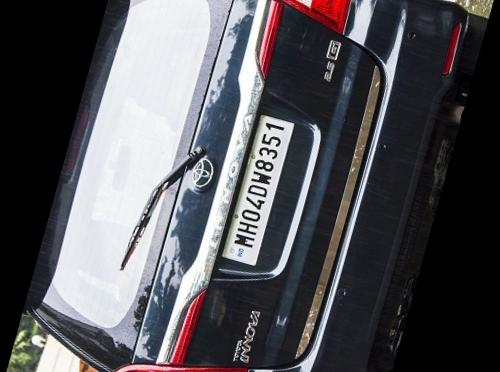plate: (203, 90, 313, 284)
